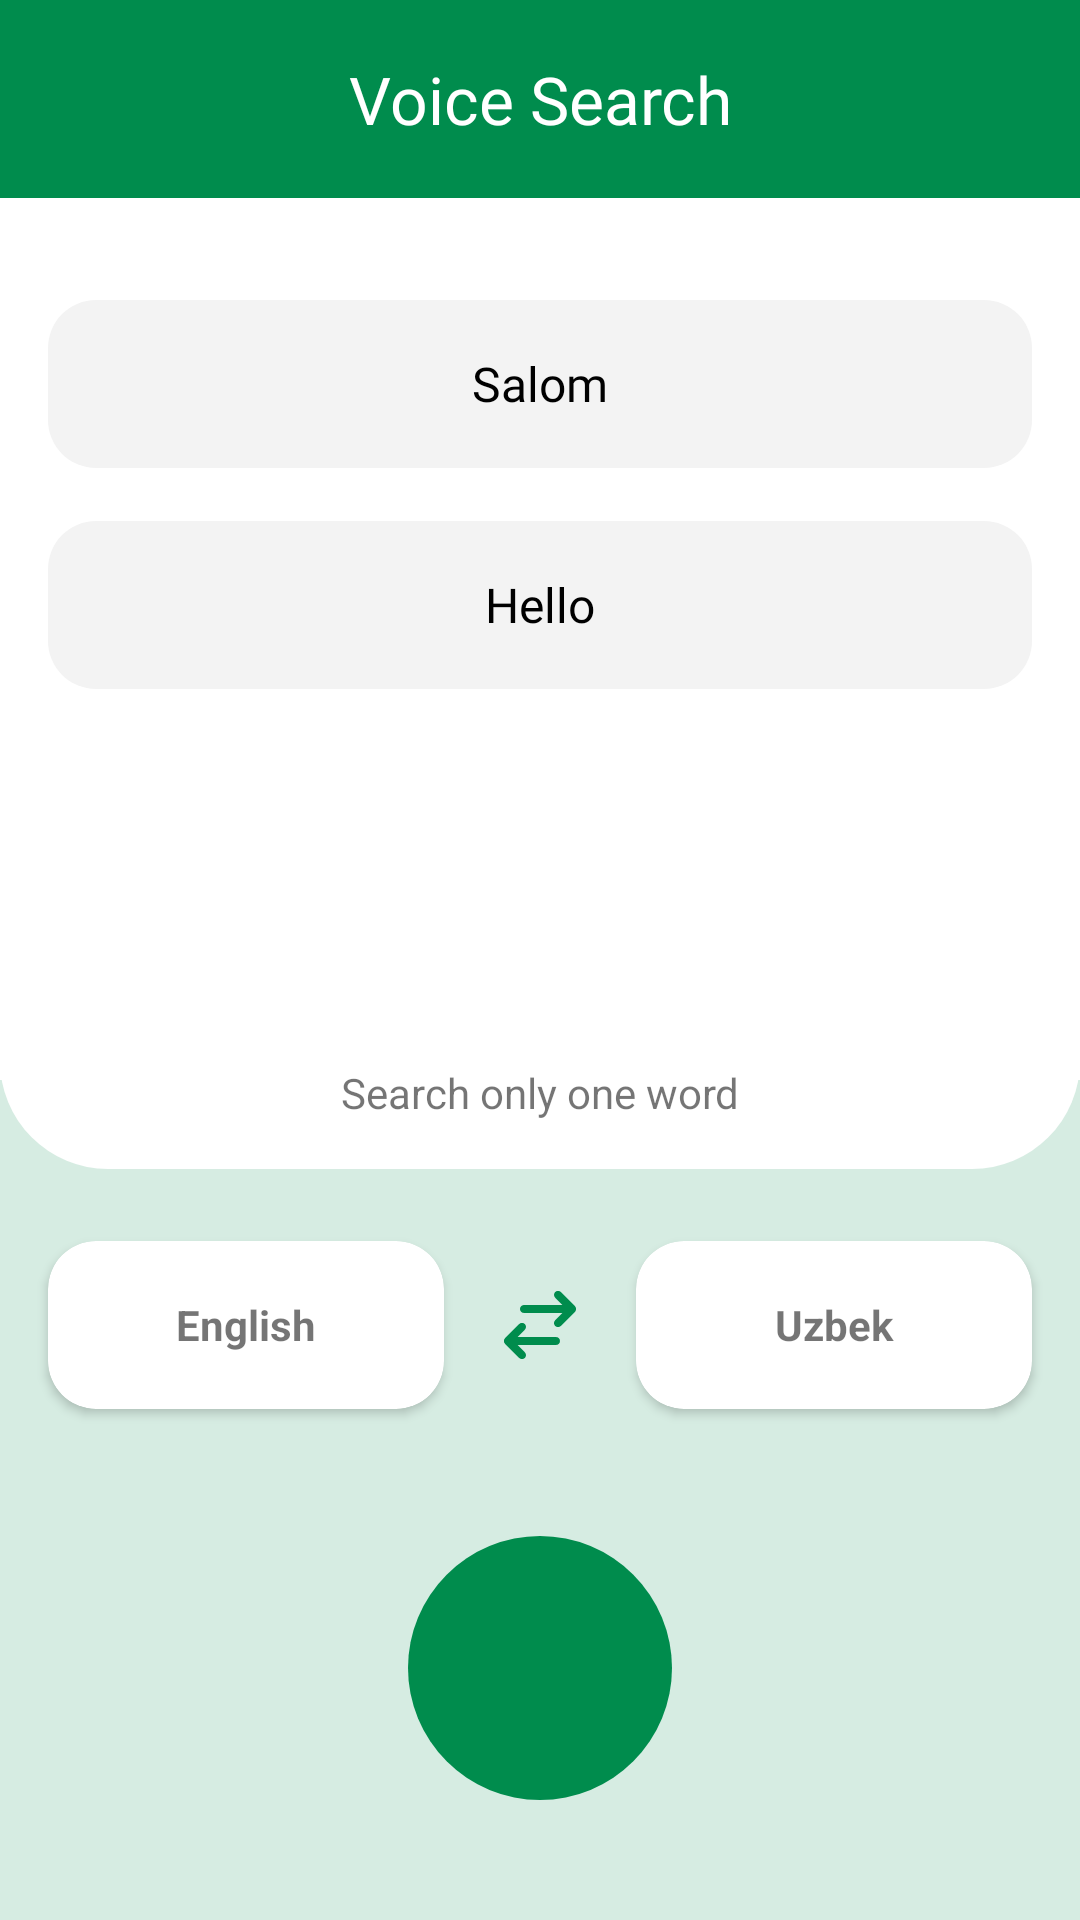

Icons on this 1080px×1920px Android screen, each with the point to tap as [x,y]:
transfer voice lang: [540,1325]
